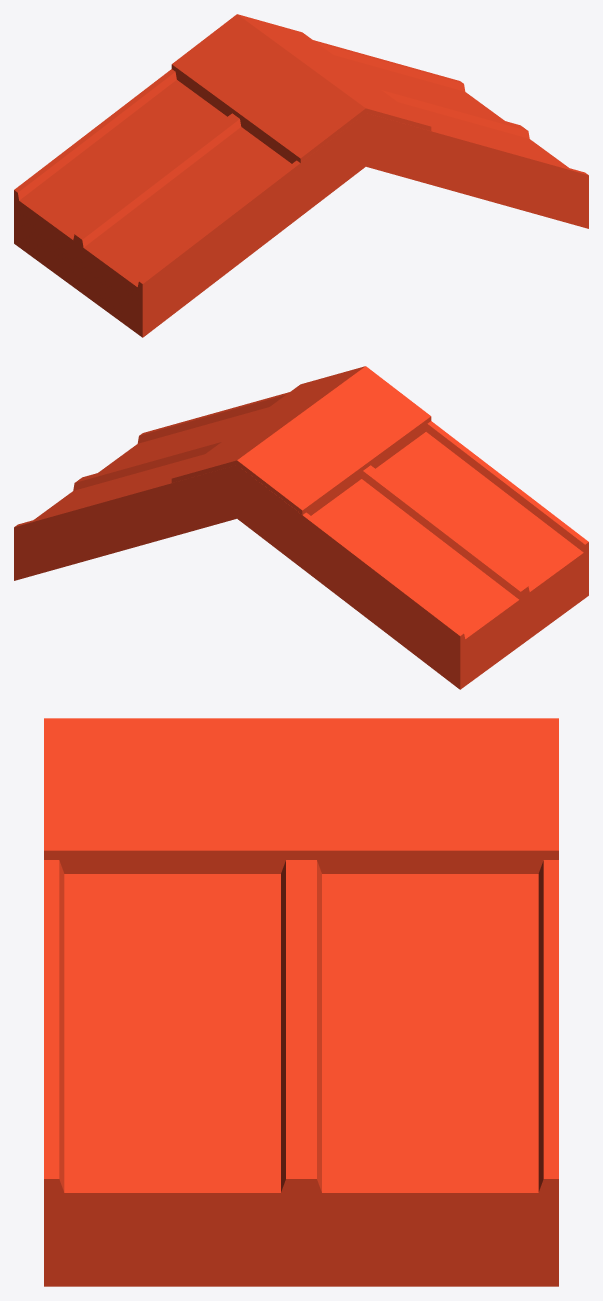
File: roof-metal-moderate-1x1m-center.fbx
The picture shows the model from 3 angles, top to bottom: view 1: azimuth 30°, elevation 25°; view 2: azimuth 150°, elevation 25°; view 3: azimuth 270°, elevation 25°; orthographic projection. The views are drawn at different scales.
Visible parts, largest first — view 1: roof-metal-moderate-1x1m-center; view 2: roof-metal-moderate-1x1m-center; view 3: roof-metal-moderate-1x1m-center.
Boxes of the visible parts, x1,y1,x2,y2 form: roof-metal-moderate-1x1m-center: (14, 14, 588, 337); roof-metal-moderate-1x1m-center: (14, 366, 588, 689); roof-metal-moderate-1x1m-center: (44, 718, 558, 1286).
Size of the model in its own units: 2 by 0.7502 by 1.
